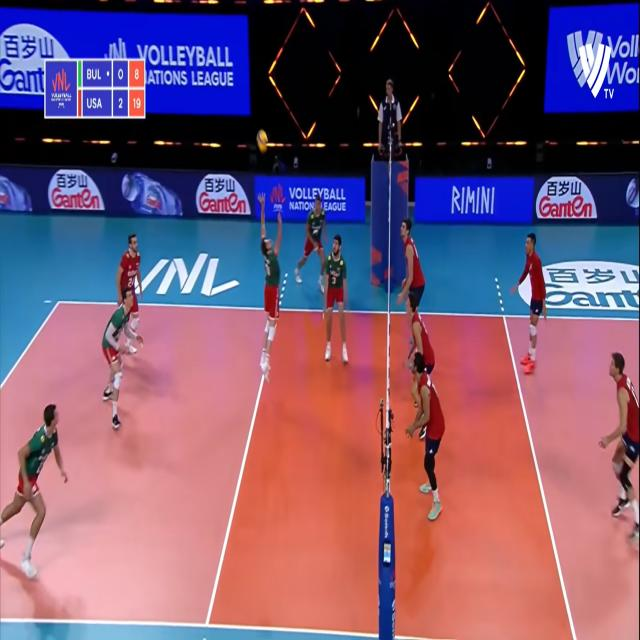player: (0, 402, 71, 587), (96, 288, 150, 433), (602, 350, 640, 554), (409, 354, 446, 528), (509, 229, 545, 383), (255, 193, 282, 390), (118, 227, 152, 362), (320, 232, 352, 371), (399, 215, 430, 346), (404, 292, 440, 402), (297, 188, 328, 300)
